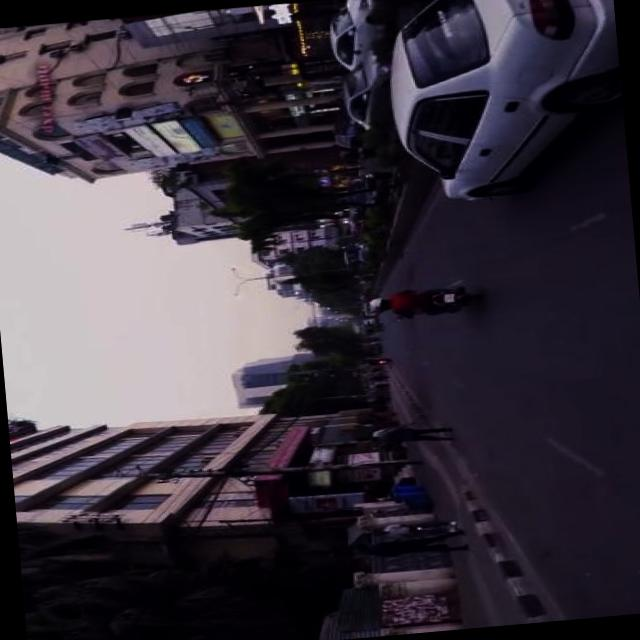car: (378, 0, 624, 208), (335, 48, 392, 134), (326, 5, 388, 73), (338, 174, 382, 212)
motorcycle: (389, 284, 483, 323), (351, 145, 372, 162), (372, 360, 386, 366)
